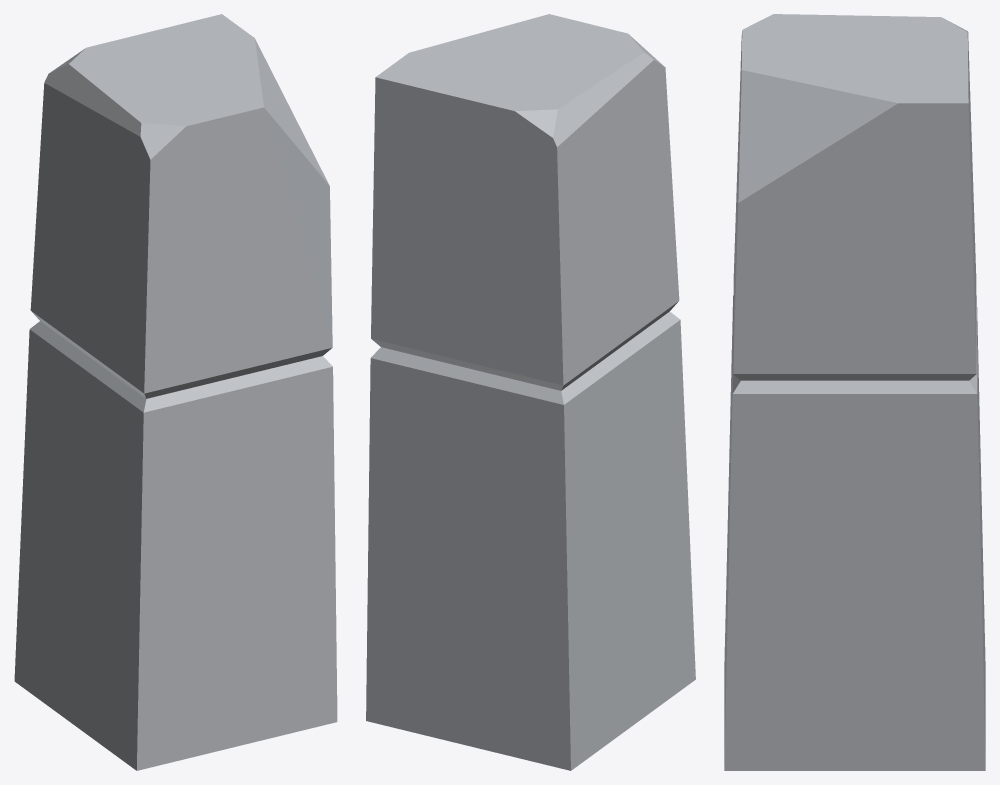
The model's file is Rock_Square_l_12 2.fbx.
3 views of the same model, side by side, from view 1: azimuth 30°, elevation 25°; view 2: azimuth 150°, elevation 25°; view 3: azimuth 270°, elevation 25° (orthographic). The views are drawn at different scales.
Parts seen in each view (by area): view 1: Rock_Square_l_12; view 2: Rock_Square_l_12; view 3: Rock_Square_l_12.
Boxes of the visible parts, box(x1,y1,x2,y2) form: Rock_Square_l_12: box(14, 14, 337, 770); Rock_Square_l_12: box(366, 14, 695, 770); Rock_Square_l_12: box(724, 14, 985, 770).
Size of the model in its own units: 127 by 377 by 134.
